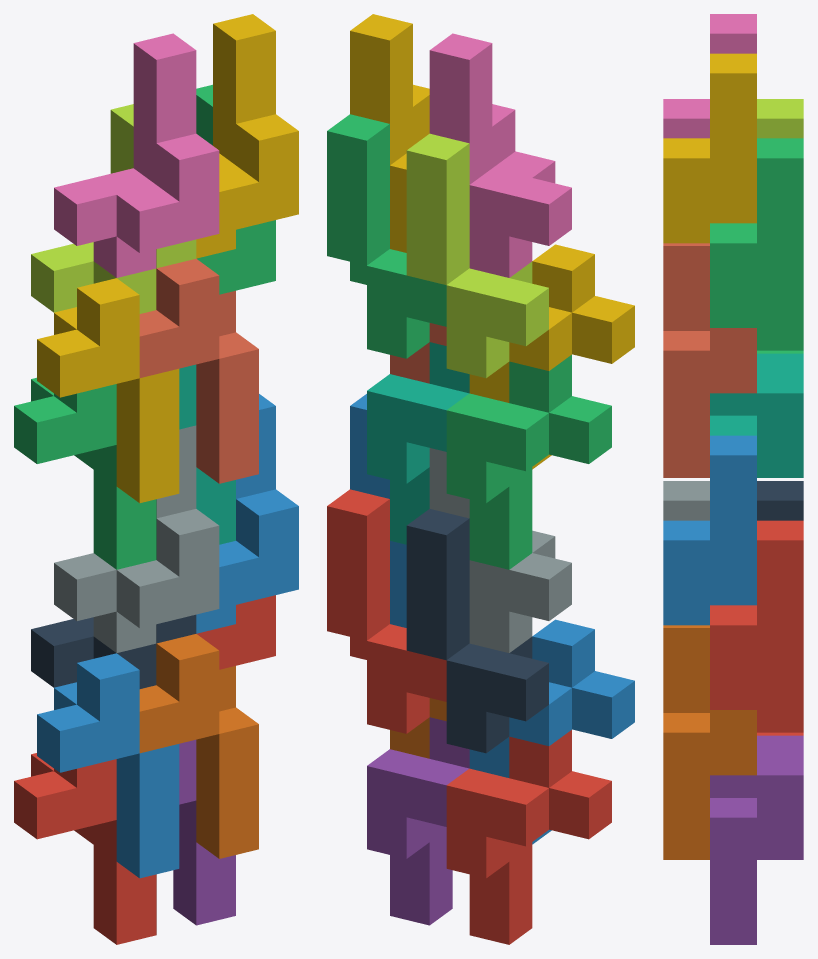
The model's file is tiling.obj.
The picture shows the model from 3 angles, left to right: view 1: azimuth 30°, elevation 25°; view 2: azimuth 150°, elevation 25°; view 3: azimuth 270°, elevation 25°; orthographic projection.
Visible parts, largest first — view 1: copy_2_domain_4, copy_1_domain_2, copy_1_domain_4, copy_1_domain_8, copy_1_domain_6, copy_2_domain_2, copy_2_domain_8, copy_1_domain_1, copy_1_domain_3, copy_2_domain_6, copy_2_domain_3, copy_1_domain_5 (+4 smaller); view 2: copy_1_domain_3, copy_1_domain_1, copy_2_domain_4, copy_2_domain_3, copy_2_domain_1, copy_2_domain_7, copy_2_domain_5, copy_1_domain_5, copy_1_domain_7, copy_1_domain_4, copy_1_domain_2, copy_2_domain_2 (+4 smaller); view 3: copy_2_domain_5, copy_2_domain_7, copy_1_domain_6, copy_1_domain_8, copy_1_domain_5, copy_2_domain_6, copy_2_domain_8, copy_1_domain_7, copy_2_domain_4, copy_2_domain_1, copy_2_domain_2, copy_2_domain_3.
Part boxes in pixels (<box>): copy_2_domain_4: <box>54,33,219,277</box>; copy_1_domain_2: <box>37,653,179,878</box>; copy_1_domain_4: <box>37,278,179,503</box>; copy_1_domain_8: <box>139,258,258,483</box>; copy_1_domain_6: <box>139,634,258,858</box>; copy_2_domain_2: <box>54,425,219,652</box>; copy_2_domain_8: <box>196,14,298,258</box>; copy_1_domain_1: <box>14,753,156,944</box>; copy_1_domain_3: <box>14,377,156,569</box>; copy_2_domain_6: <box>196,394,298,633</box>; copy_2_domain_3: <box>31,104,196,313</box>; copy_1_domain_5: <box>173,739,235,925</box>; copy_1_domain_3: <box>446,355,611,569</box>; copy_1_domain_1: <box>446,730,611,944</box>; copy_2_domain_4: <box>429,33,571,277</box>; copy_2_domain_3: <box>406,133,548,378</box>; copy_2_domain_1: <box>406,509,548,753</box>; copy_2_domain_7: <box>327,114,446,358</box>; copy_2_domain_5: <box>327,489,446,733</box>; copy_1_domain_5: <box>367,717,469,925</box>; copy_1_domain_7: <box>367,342,469,544</box>; copy_1_domain_4: <box>469,244,634,469</box>; copy_1_domain_2: <box>469,619,634,844</box>; copy_2_domain_2: <box>429,448,571,652</box>; copy_2_domain_5: <box>710,520,803,732</box>; copy_2_domain_7: <box>710,138,803,350</box>; copy_1_domain_6: <box>663,625,756,859</box>; copy_1_domain_8: <box>663,243,756,477</box>; copy_1_domain_5: <box>710,735,803,944</box>; copy_2_domain_6: <box>663,435,756,625</box>; copy_2_domain_8: <box>663,53,756,243</box>; copy_1_domain_7: <box>710,353,803,477</box>; copy_2_domain_4: <box>663,14,756,138</box>; copy_2_domain_1: <box>757,481,803,520</box>; copy_2_domain_2: <box>663,481,709,520</box>; copy_2_domain_3: <box>757,99,803,138</box>.
Bounding box in the file's own units: 6 × 21 × 3.
